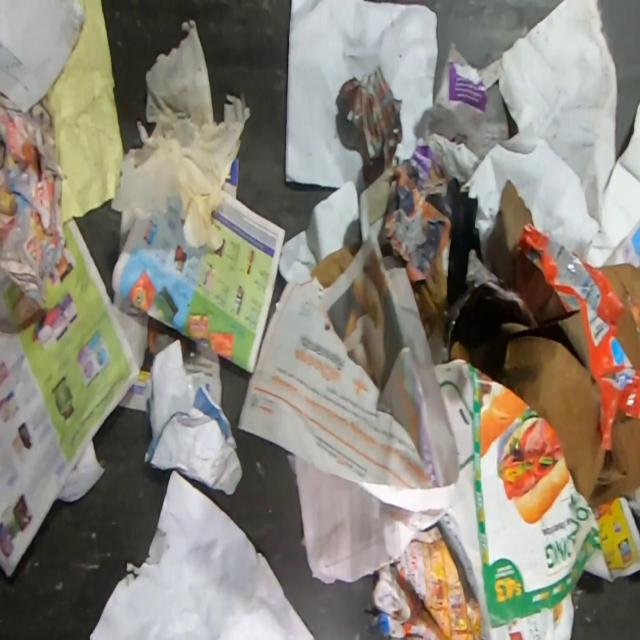cardboard: (449, 179, 640, 505), (599, 262, 640, 369), (411, 252, 448, 321), (309, 240, 362, 288)
soft_plastic: (110, 18, 250, 252), (515, 221, 640, 452)
